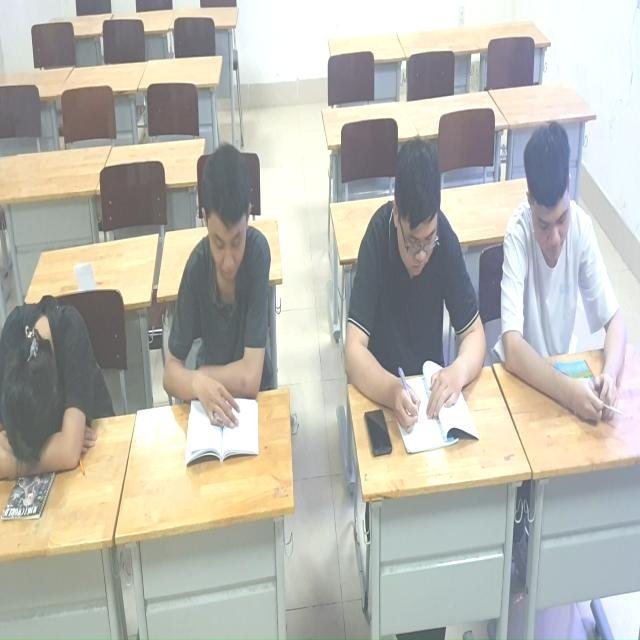read: (345, 140, 491, 467), (500, 120, 640, 434), (169, 151, 283, 475)
sleep: (1, 270, 114, 499)
